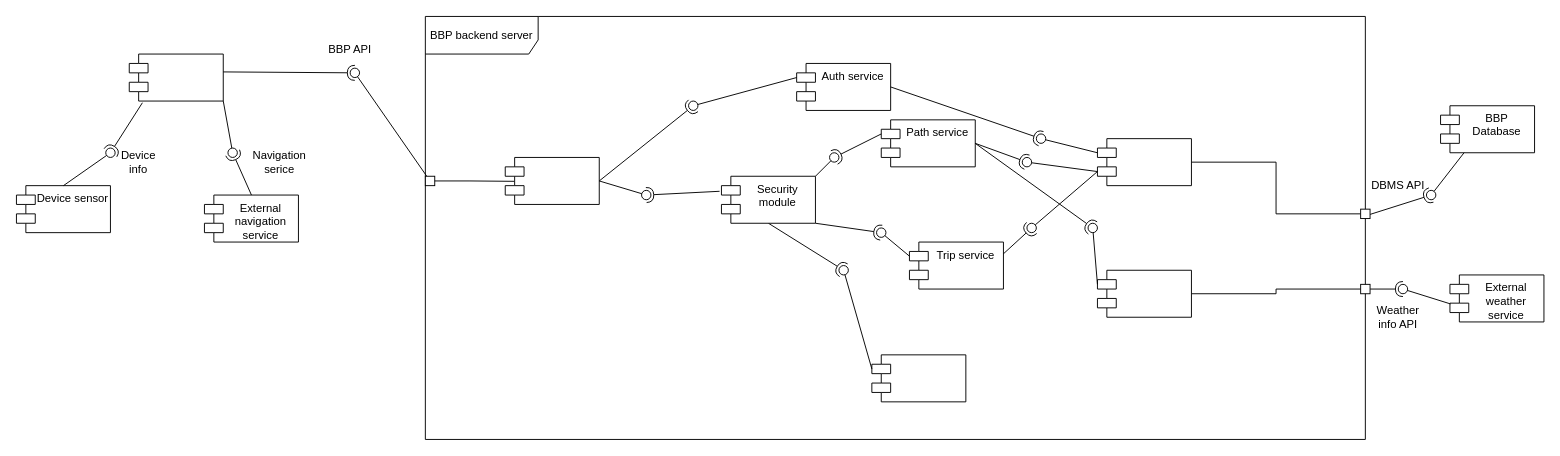
The diagram is 1560 pixels wide and 456 high, and some of its shapes have lost their labels. The centre of each missing label's shape, as x and y in pixels:
Controller layer: the point at 551,180
Mobile App: the point at 175,77
Model: the point at 1144,162
Profile manager: the point at 918,378
Weather API client: the point at 1144,293
